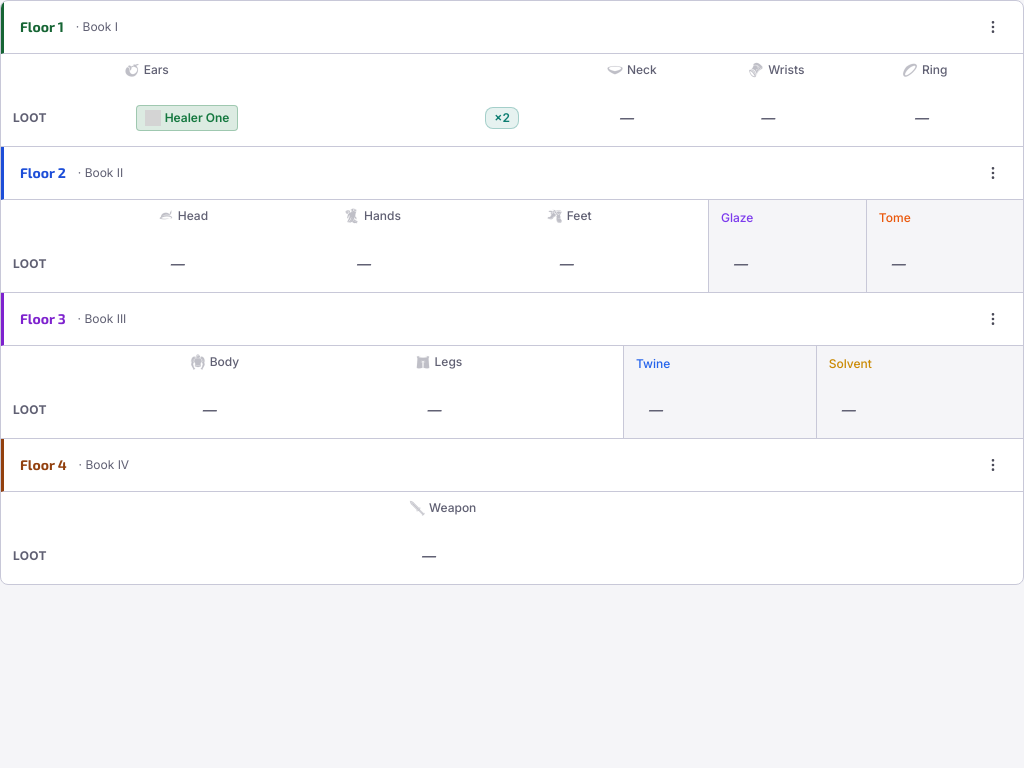
Test: D6a right-click target (PR #244 r3 fix): whole-cell right-click › right-clicking the cell WRAPPER itself (not the edit button) opens the menu with the full item set
The image size is (1024, 768).
Right-click the element named "2 entries for Ears — Floor 1".
right_click(353, 118)  # box x1=124 y1=98 x2=583 y2=138
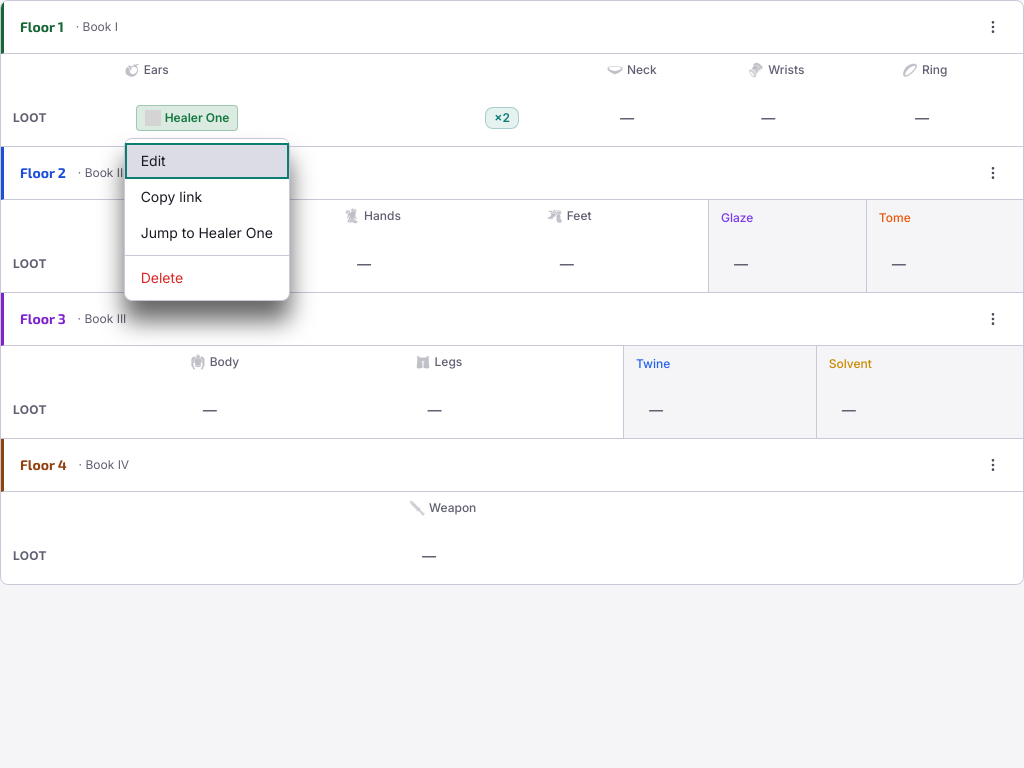
Expected: the menu item "Edit" is shown, x1=125 y1=143 x2=289 y2=179
Expected: the menu item "Copy link" is shown, x1=125 y1=179 x2=289 y2=215
Expected: the menu item "Delete" is shown, x1=125 y1=260 x2=289 y2=296
